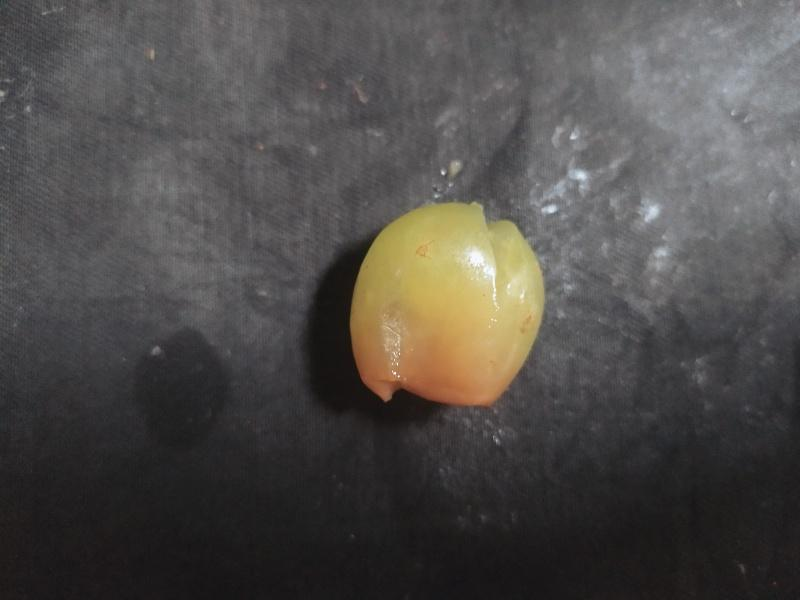Grape Overripe: (348, 196, 548, 408)
